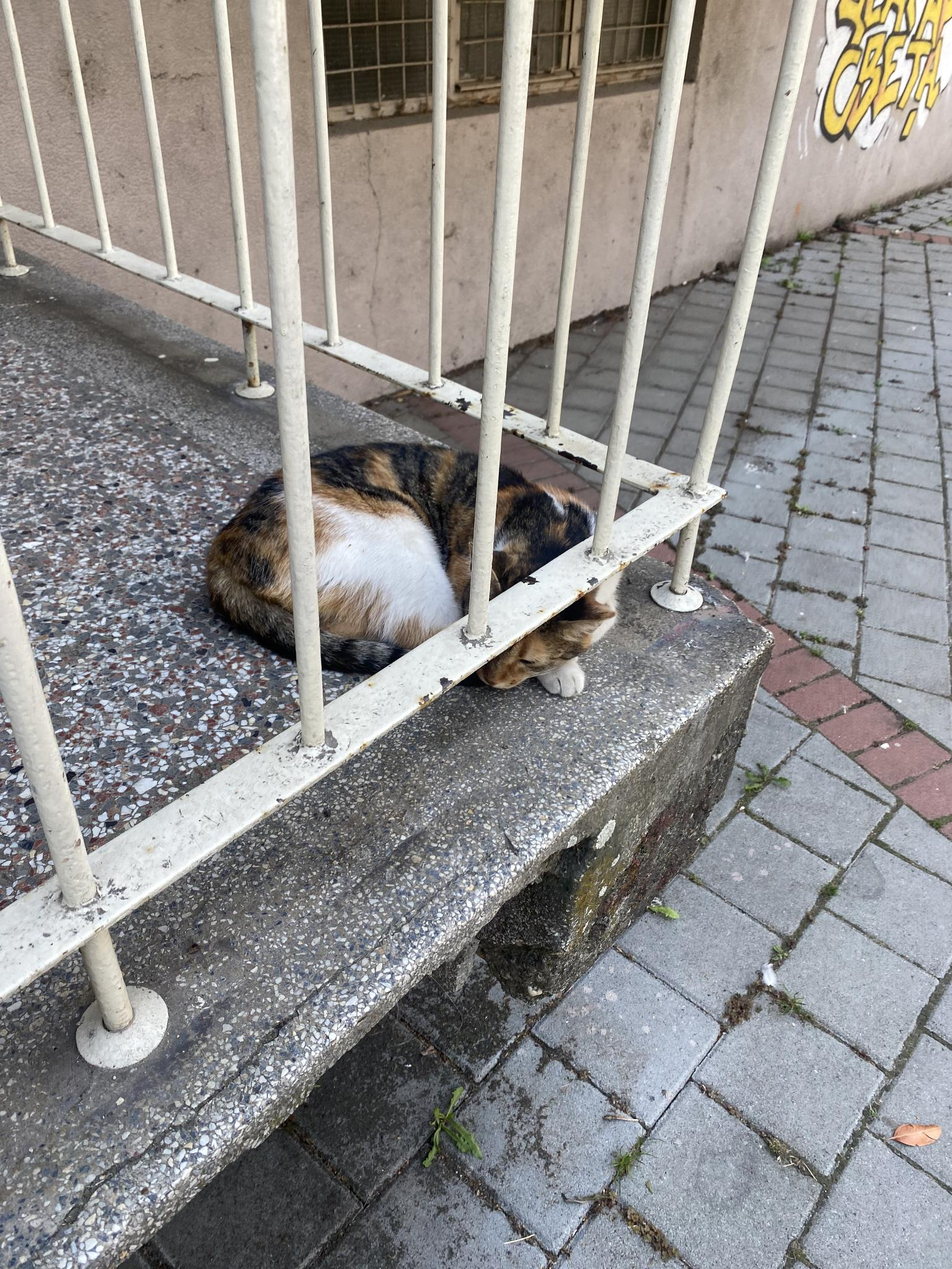macka: (201, 432, 614, 708)
